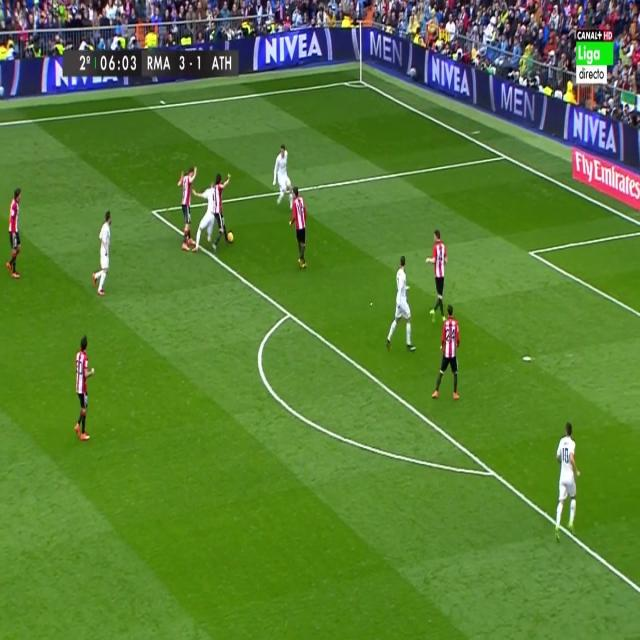Ball: (224, 227, 236, 247)
Player: (550, 418, 581, 544), (384, 251, 420, 353), (428, 300, 462, 404), (70, 332, 96, 445), (423, 226, 449, 323), (90, 208, 116, 299), (176, 162, 198, 254), (210, 168, 233, 255), (192, 180, 218, 256), (287, 182, 308, 274), (5, 184, 22, 284), (271, 142, 295, 207)
